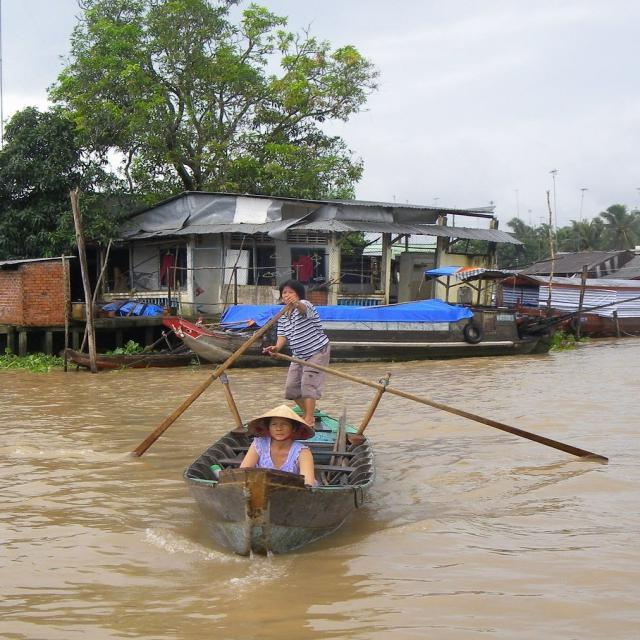Hyacinth: (4, 340, 75, 380), (544, 327, 577, 356)
boat: (170, 266, 542, 366), (195, 394, 372, 562)
